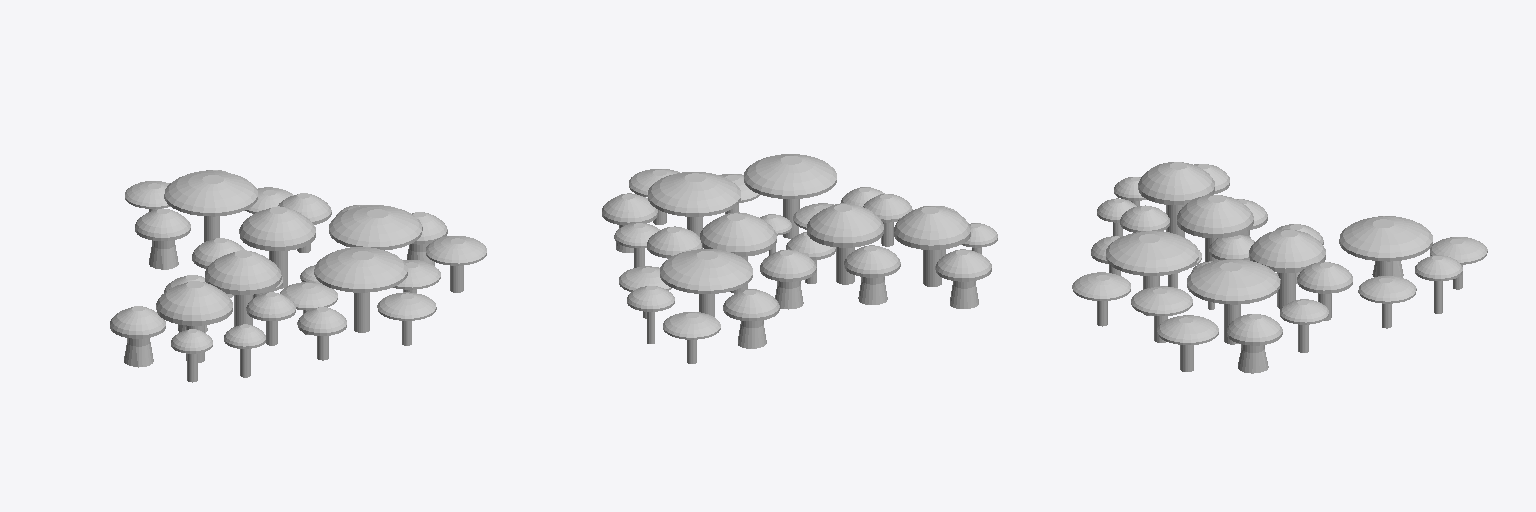
The model's file is mushroms.obj.
3 renders of one model, left to right at view 1: azimuth 30°, elevation 25°; view 2: azimuth 150°, elevation 25°; view 3: azimuth 270°, elevation 25°, orthographic.
Visible parts, largest first — view 1: Mesh118 Group79 Group77 Model, Mesh27 Group16 Group13 Model, Mesh110 Group72 Group70 Model, Mesh132 Group90 Group89 Model, Mesh80 Group52 Group49 Model, Mesh13 Group8 Group5 Model, Mesh98 Group63 Group61 Model, Mesh22 Group12 Group9 Model, Mesh8 Group4 Group1 Model, Mesh113 Group75 Group73 Model, Mesh128 Group87 Group85 Model, Mesh75 Group48 Group45 Model (+12 smaller); view 2: Mesh110 Group72 Group70 Model, Mesh118 Group79 Group77 Model, Mesh27 Group16 Group13 Model, Mesh13 Group8 Group5 Model, Mesh132 Group90 Group89 Model, Mesh80 Group52 Group49 Model, Mesh22 Group12 Group9 Model, Mesh53 Group34 Group33 Model, Mesh82 Group54 Group53 Model, Mesh8 Group4 Group1 Model, Mesh36 Group23 Group21 Model, Mesh32 Group20 Group17 Model (+13 smaller); view 3: Mesh27 Group16 Group13 Model, Mesh110 Group72 Group70 Model, Mesh118 Group79 Group77 Model, Mesh13 Group8 Group5 Model, Mesh132 Group90 Group89 Model, Mesh80 Group52 Group49 Model, Mesh106 Group69 Group67 Model, Mesh98 Group63 Group61 Model, Mesh36 Group23 Group21 Model, Mesh46 Group28 Group25 Model, Mesh113 Group75 Group73 Model, Mesh70 Group44 Group41 Model (+9 smaller).
Part boxes in pixels (x1,y1,x2,y2): Mesh118 Group79 Group77 Model: (314, 247, 407, 292); Mesh27 Group16 Group13 Model: (164, 171, 257, 216); Mesh110 Group72 Group70 Model: (329, 205, 422, 249); Mesh132 Group90 Group89 Model: (156, 281, 232, 325); Mesh80 Group52 Group49 Model: (239, 206, 315, 250); Mesh13 Group8 Group5 Model: (205, 250, 281, 294); Mesh98 Group63 Group61 Model: (426, 236, 486, 265); Mesh22 Group12 Group9 Model: (110, 306, 165, 338); Mesh8 Group4 Group1 Model: (135, 208, 190, 240); Mesh113 Group75 Group73 Model: (377, 292, 436, 320); Mesh128 Group87 Group85 Model: (280, 282, 337, 310); Mesh75 Group48 Group45 Model: (246, 292, 295, 320); Mesh110 Group72 Group70 Model: (648, 172, 740, 216); Mesh118 Group79 Group77 Model: (744, 154, 836, 198); Mesh27 Group16 Group13 Model: (660, 249, 752, 293); Mesh13 Group8 Group5 Model: (807, 203, 883, 247); Mesh132 Group90 Group89 Model: (894, 206, 970, 249); Mesh80 Group52 Group49 Model: (700, 212, 776, 256); Mesh22 Group12 Group9 Model: (935, 249, 991, 281); Mesh53 Group34 Group33 Model: (844, 245, 900, 277); Mesh82 Group54 Group53 Model: (760, 249, 816, 281); Mesh8 Group4 Group1 Model: (723, 289, 779, 320); Mesh36 Group23 Group21 Model: (602, 193, 657, 225); Mesh32 Group20 Group17 Model: (663, 312, 720, 339); Mesh27 Group16 Group13 Model: (1339, 216, 1432, 261); Mesh110 Group72 Group70 Model: (1187, 259, 1280, 304); Mesh118 Group79 Group77 Model: (1106, 231, 1198, 275); Mesh13 Group8 Group5 Model: (1177, 195, 1253, 237); Mesh132 Group90 Group89 Model: (1138, 162, 1214, 204); Mesh80 Group52 Group49 Model: (1249, 229, 1325, 272); Mesh106 Group69 Group67 Model: (1131, 286, 1192, 315); Mesh98 Group63 Group61 Model: (1157, 315, 1218, 344); Mesh36 Group23 Group21 Model: (1227, 314, 1282, 345); Mesh46 Group28 Group25 Model: (1297, 262, 1352, 293); Mesh113 Group75 Group73 Model: (1072, 272, 1130, 300); Mesh70 Group44 Group41 Model: (1358, 276, 1416, 303).
Size of the model in its own units: 5.43 by 1.08 by 5.38.